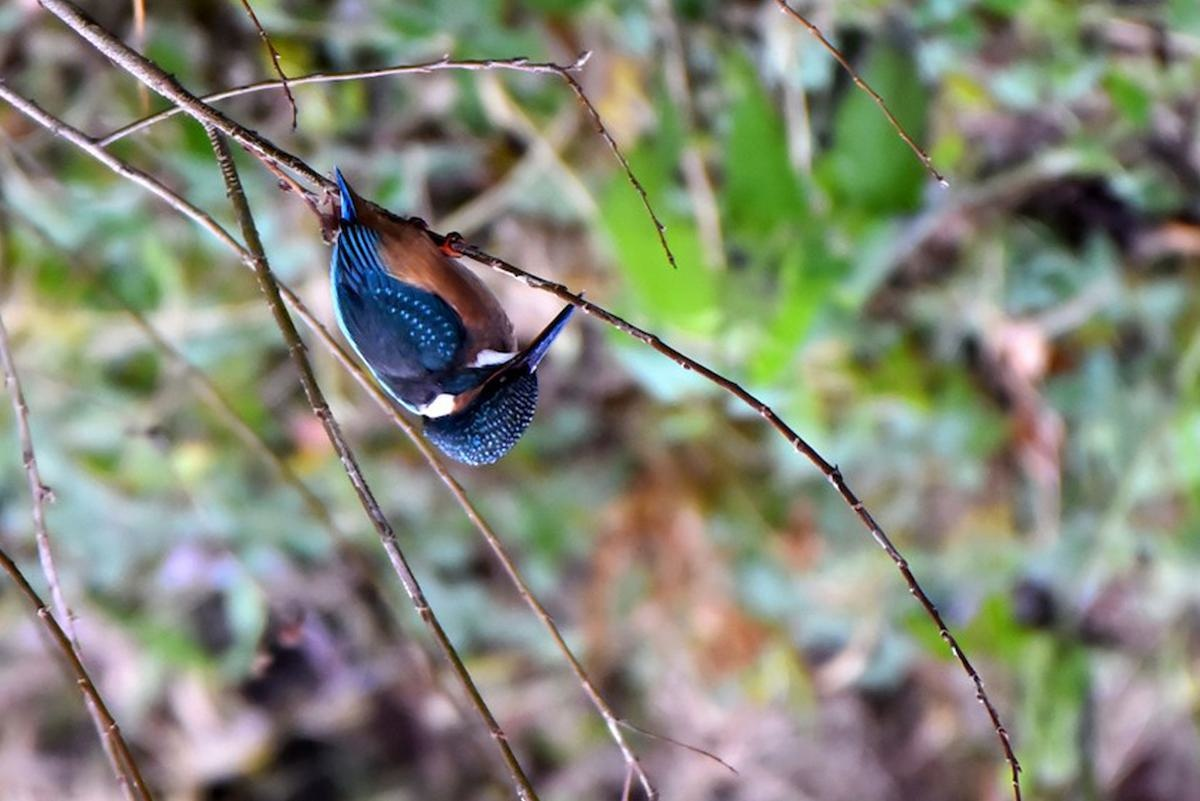kingfisher: (305, 127, 606, 497)
